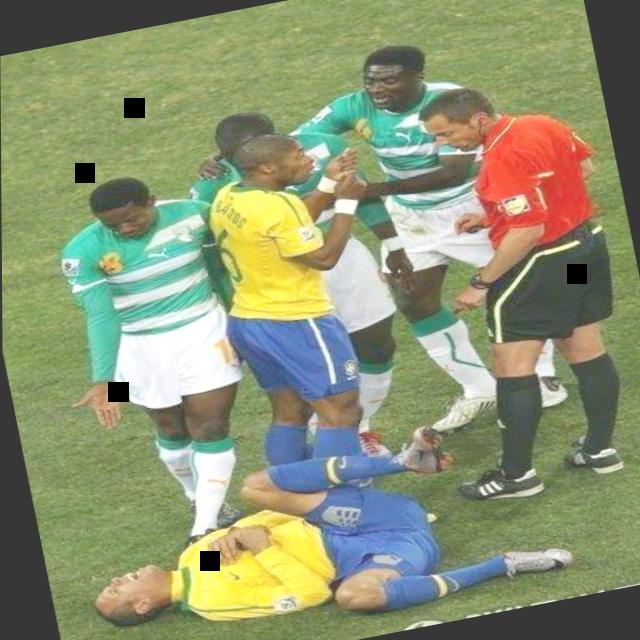Fall-Detected: (58, 407, 589, 640)
